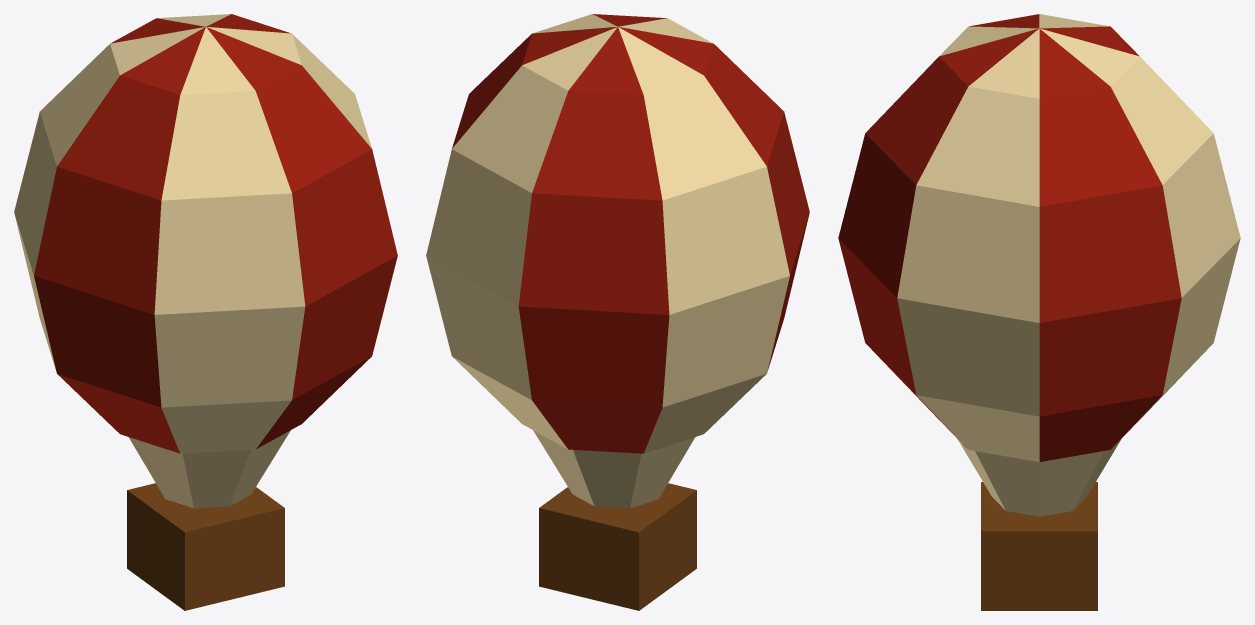
The model's file is balloon.glb.
The picture shows the model from 3 angles, left to right: view 1: azimuth 30°, elevation 25°; view 2: azimuth 150°, elevation 25°; view 3: azimuth 270°, elevation 25°; orthographic projection.
Parts seen in each view (by area): view 1: Env, Basket1, Skirt; view 2: Env, Basket1, Skirt; view 3: Env, Basket1, Skirt.
Part boxes in pixels (x1,y1,x2,y2): Env: (14,14,397,453); Basket1: (127,483,284,610); Skirt: (128,430,290,508); Env: (426,14,809,453); Basket1: (539,483,696,610); Skirt: (533,430,695,508); Env: (838,14,1240,462); Basket1: (981,482,1097,610); Skirt: (957,438,1121,516).
Size of the model in its own units: 1.1 by 1.68 by 1.1.
